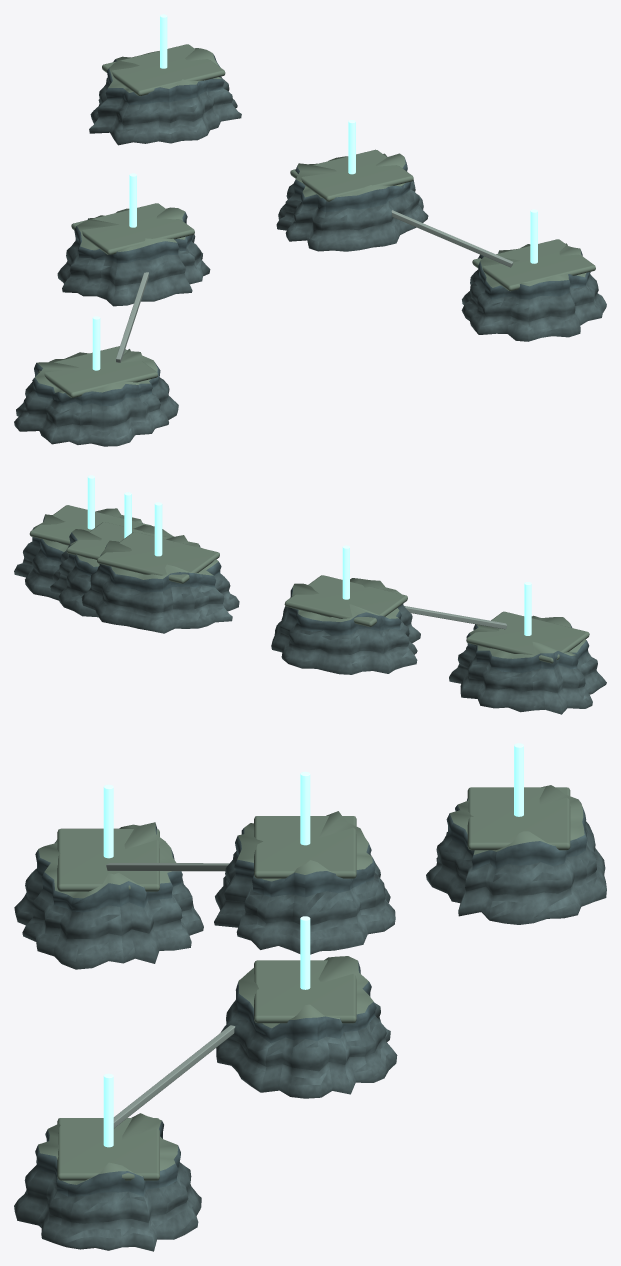
The model's file is sky-islands-v1.glb.
The picture shows the model from 3 angles, top to bottom: view 1: azimuth 30°, elevation 25°; view 2: azimuth 150°, elevation 25°; view 3: azimuth 270°, elevation 25°; orthographic projection. The views are drawn at different scales.
Parts seen in each view (by area): view 1: Surface mantle, coast strata 0, coast strata 1, coast strata 2, Relay lighting, Concrete and brushed alloy; view 2: Surface mantle, coast strata 0, coast strata 1, coast strata 2, Relay lighting, Concrete and brushed alloy; view 3: Surface mantle, coast strata 0, coast strata 1, coast strata 2, Relay lighting, Concrete and brushed alloy.
Part boxes in pixels (x1,y1,x2,y2): Surface mantle: (35, 44, 595, 397); coast strata 0: (14, 99, 606, 446); coast strata 1: (23, 76, 598, 427); coast strata 2: (32, 54, 590, 405); Relay lighting: (92, 14, 537, 370); Concrete and brushed alloy: (116, 210, 513, 362); Surface mantle: (29, 505, 589, 663); coast strata 0: (14, 557, 606, 714); coast strata 1: (23, 541, 597, 693); coast strata 2: (32, 515, 589, 672); Relay lighting: (87, 475, 531, 635); Concrete and brushed alloy: (404, 606, 507, 629); Surface mantle: (38, 785, 584, 1184); coast strata 0: (14, 848, 606, 1251); coast strata 1: (24, 821, 596, 1223); coast strata 2: (35, 798, 587, 1196); Relay lighting: (103, 743, 523, 1147); Concrete and brushed alloy: (106, 863, 235, 1128).
Bounding box in the file's own units: 104 × 41.7 × 69.37.
6 materials, 3 textured.
